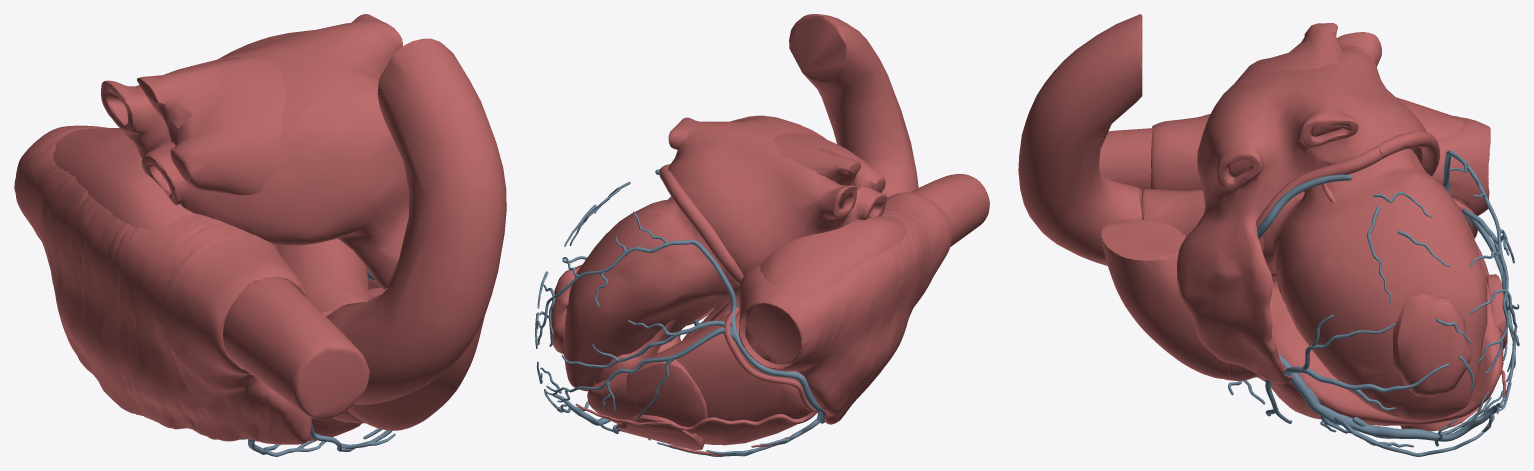
File: bodyparts3d-heart.obj
The picture shows the model from 3 angles, left to right: view 1: azimuth 30°, elevation 25°; view 2: azimuth 150°, elevation 25°; view 3: azimuth 270°, elevation 25°; orthographic projection. The views are drawn at different scales.
Parts seen in each view (by area): view 1: FJ2439, FJ2438, FJ3411, FJ2425, FJ3645, FJ2424, FJ3413, FJ2966, FJ2423; view 2: FJ2439, FJ2438, FJ2422, FJ3411, FJ2423, FJ2424, FJ2430, FJ2425, FJ3645, FJ2655, FJ2419, FJ2723 (+7 smaller); view 3: FJ2422, FJ2438, FJ3411, FJ2966, FJ2423, FJ2439, FJ2429, FJ2425, FJ3645, FJ3413, FJ2631, FJ2656 (+9 smaller).
Boxes of the visible parts, <box> form: FJ2439: <box>14,125,311,444</box>; FJ2438: <box>101,14,408,290</box>; FJ3411: <box>326,38,506,404</box>; FJ2425: <box>137,55,286,195</box>; FJ3645: <box>223,277,369,419</box>; FJ2424: <box>53,128,291,362</box>; FJ3413: <box>276,238,371,316</box>; FJ2966: <box>347,288,484,430</box>; FJ2423: <box>308,287,381,440</box>; FJ2439: <box>739,192,952,424</box>; FJ2438: <box>668,115,887,325</box>; FJ2422: <box>563,199,739,391</box>; FJ3411: <box>789,14,918,197</box>; FJ2423: <box>587,296,814,445</box>; FJ2424: <box>745,216,907,364</box>; FJ2430: <box>626,359,707,433</box>; FJ2425: <box>772,133,885,192</box>; FJ3645: <box>911,174,989,246</box>; FJ2655: <box>660,169,743,284</box>; FJ2419: <box>615,413,704,450</box>; FJ2723: <box>691,239,825,423</box>; FJ2422: <box>1262,148,1487,420</box>; FJ2438: <box>1177,32,1426,384</box>; FJ3411: <box>1018,14,1142,265</box>; FJ2966: <box>1101,218,1230,378</box>; FJ2423: <box>1253,242,1503,425</box>; FJ2439: <box>1151,114,1490,282</box>; FJ2429: <box>1393,294,1471,396</box>; FJ2425: <box>1228,23,1342,177</box>; FJ3645: <box>1099,128,1152,198</box>; FJ3413: <box>1142,189,1204,237</box>; FJ2631: <box>1278,354,1502,441</box>; FJ2656: <box>1256,147,1382,227</box>.
Size of the model in its own units: 116 by 127 by 142.
